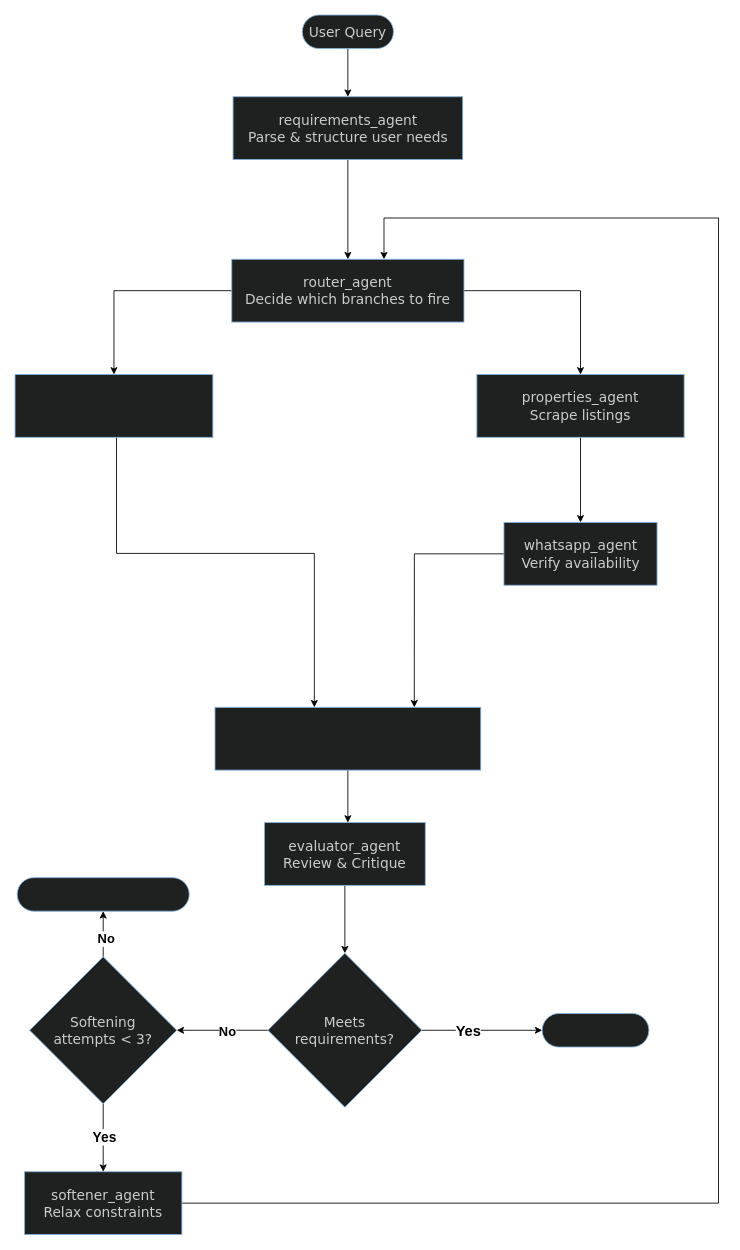
Image size: 740x1250. Some labels were removed from this diagram. Here are the shapes that lost their labels. From the top down, the centre of each, then its label:
pixel 113 405: news_agent Fetch area news & safety
pixel 347 738: synthesizer Merge listings + verification + news
pixel 102 894: Return best-effort results
pixel 595 1030: Return results
